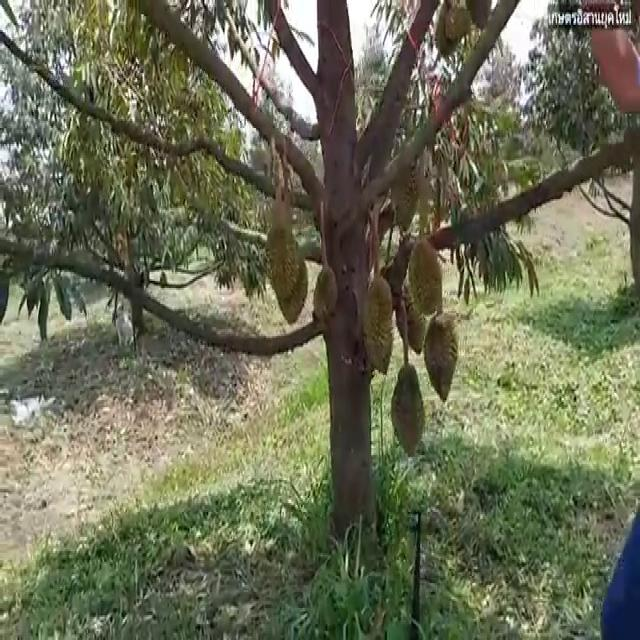durian: (404, 231, 449, 321), (389, 360, 429, 458), (361, 267, 395, 380), (423, 312, 461, 408), (272, 240, 310, 327), (390, 273, 427, 361), (386, 147, 422, 235), (264, 219, 299, 305), (310, 265, 339, 323)
